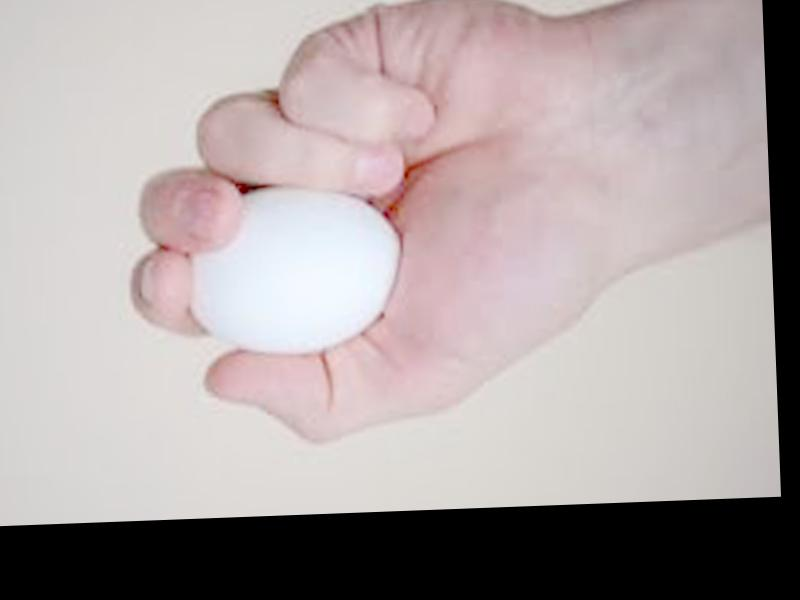Eggs: (187, 185, 407, 357)
